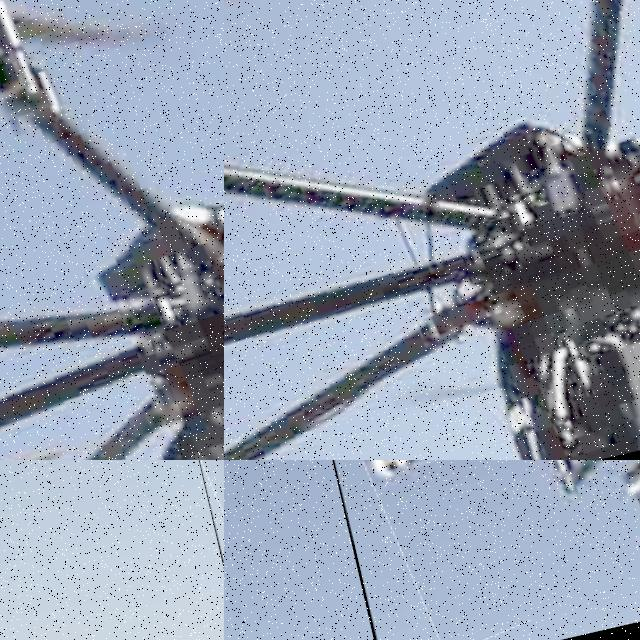drone: (224, 0, 640, 460), (0, 0, 224, 460), (261, 460, 640, 640), (167, 460, 224, 640)
